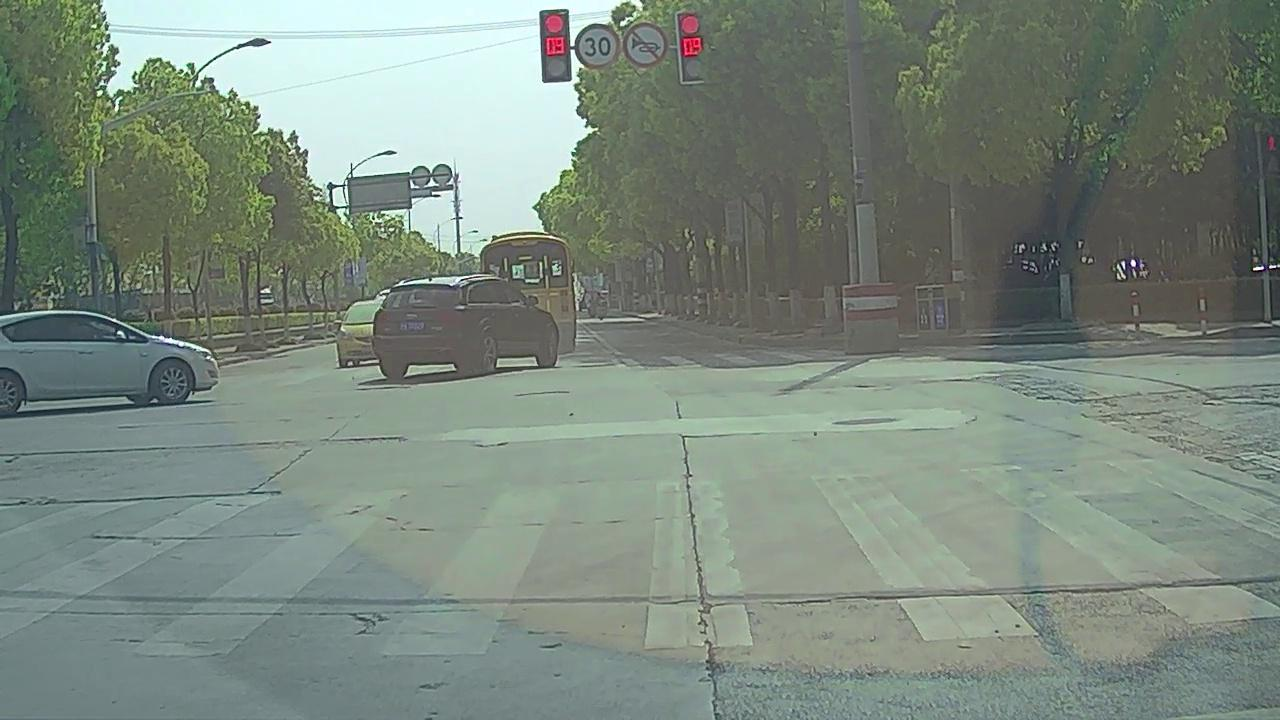traffic_light: (679, 14, 707, 85), (541, 12, 569, 80)
